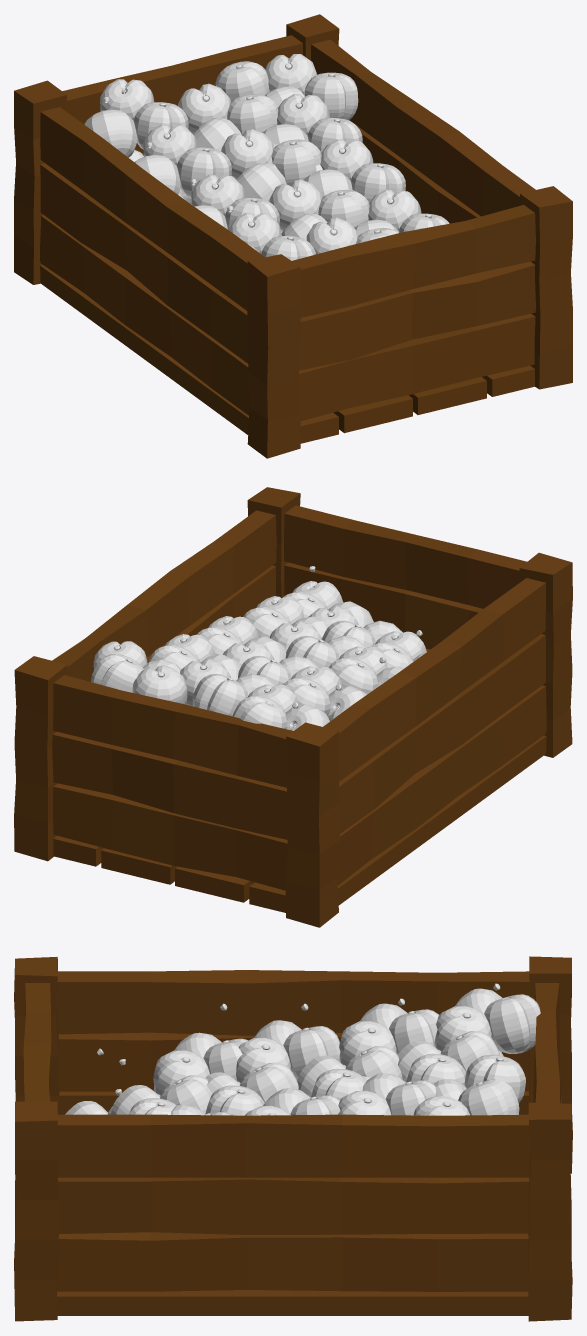
Rendered from Peacheskassecombined.fbx.
The picture shows the model from 3 angles, top to bottom: view 1: azimuth 30°, elevation 25°; view 2: azimuth 150°, elevation 25°; view 3: azimuth 270°, elevation 25°; orthographic projection. The views are drawn at different scales.
Parts seen in each view (by area): view 1: Plane.234, Cube.022, Cube.011, Cube.012, Cube.013, Cube.010, Cube.021, Cube.020, Cube.014, Cube.004, Cube.006, Cube.003 (+6 smaller); view 2: Plane.234, Cube.022, Cube.017, Cube.011, Cube.018, Cube.019, Cube.010, Cube.021, Cube.020, Cube.006, Cube.005, Cube.014 (+7 smaller); view 3: Plane.234, Cube.010, Cube.008, Cube.009, Cube.022, Cube.002, Cube.004, Cube.005, Cube.021, Cube.014, Cube.011, Cube.006 (+2 smaller).
Boxes of the visible parts, left/top/right/bottom form: Plane.234: left=84, top=54, right=449, bottom=260; Cube.022: left=40, top=107, right=264, bottom=310; Cube.011: left=292, top=205, right=535, bottom=317; Cube.012: left=299, top=261, right=535, bottom=370; Cube.013: left=298, top=313, right=535, bottom=421; Cube.010: left=311, top=39, right=535, bottom=216; Cube.021: left=40, top=163, right=248, bottom=363; Cube.020: left=40, top=215, right=249, bottom=415; Cube.014: left=247, top=254, right=300, bottom=458; Cube.004: left=520, top=186, right=572, bottom=389; Cube.006: left=14, top=80, right=66, bottom=284; Cube.003: left=40, top=265, right=338, bottom=443; Plane.234: left=91, top=566, right=426, bottom=730; Cube.022: left=323, top=578, right=545, bottom=781; Cube.017: left=53, top=675, right=292, bottom=787; Cube.011: left=284, top=505, right=526, bottom=608; Cube.018: left=52, top=732, right=287, bottom=839; Cube.019: left=53, top=783, right=287, bottom=890; Cube.010: left=52, top=510, right=276, bottom=681; Cube.021: left=339, top=634, right=545, bottom=833; Cube.020: left=337, top=685, right=546, bottom=885; Cube.006: left=285, top=722, right=339, bottom=927; Cube.005: left=14, top=656, right=67, bottom=861; Cube.014: left=519, top=552, right=572, bottom=757; Plane.234: left=65, top=983, right=540, bottom=1115; Cube.010: left=57, top=1114, right=530, bottom=1177; Cube.008: left=56, top=1232, right=528, bottom=1291; Cube.009: left=58, top=1177, right=529, bottom=1234; Cube.022: left=56, top=970, right=530, bottom=1035; Cube.002: left=57, top=1290, right=528, bottom=1315; Cube.004: left=14, top=1101, right=59, bottom=1321; Cube.005: left=528, top=1102, right=572, bottom=1321; Cube.021: left=58, top=1032, right=529, bottom=1091; Cube.014: left=14, top=956, right=59, bottom=1174; Cube.011: left=23, top=983, right=51, bottom=1101; Cube.006: left=529, top=956, right=572, bottom=1173.
Size of the model in its own units: 465 by 275 by 667.
